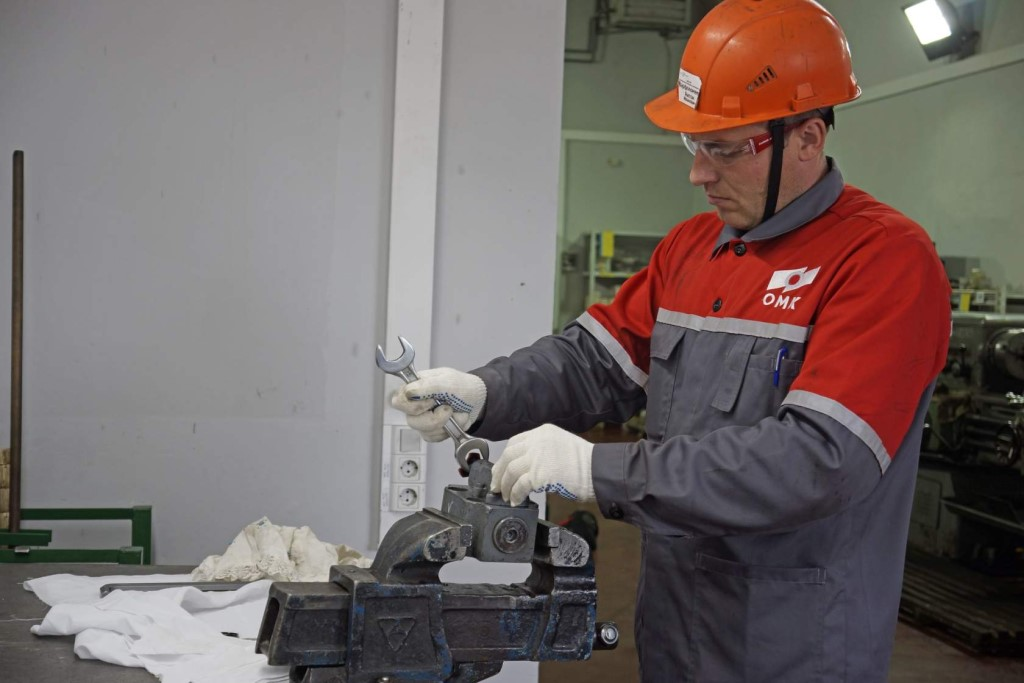person: (402, 1, 952, 683)
